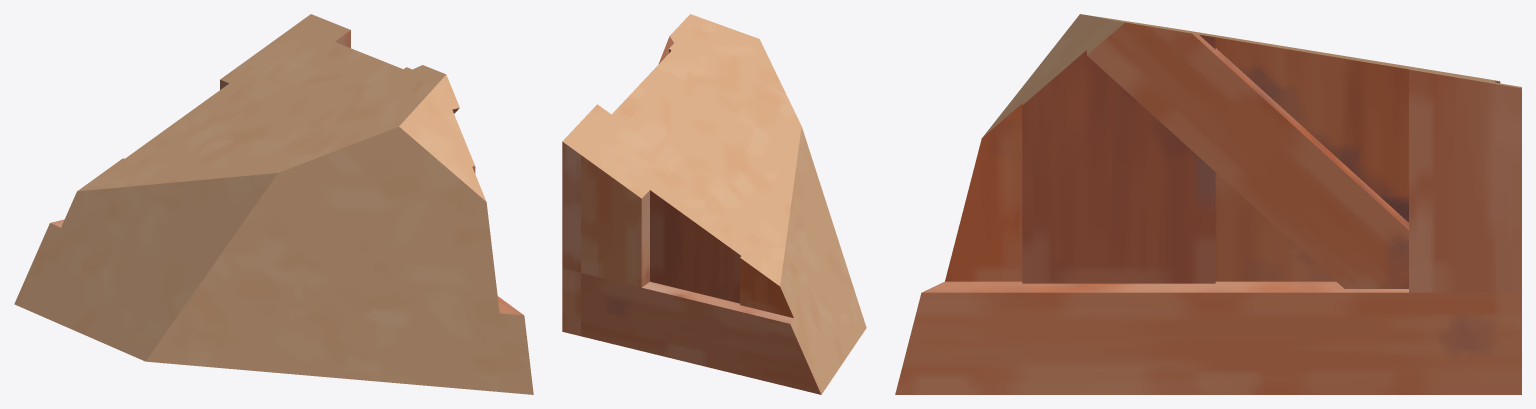
Rendered from crate_s00.fbx.
The picture shows the model from 3 angles, left to right: view 1: azimuth 30°, elevation 25°; view 2: azimuth 150°, elevation 25°; view 3: azimuth 270°, elevation 25°; orthographic projection. The views are drawn at different scales.
Visible parts, largest first — view 1: crate_s00; view 2: crate_s00; view 3: crate_s00.
Boxes of the visible parts, x1,y1,x2,y2 form: crate_s00: [14, 14, 533, 394]; crate_s00: [562, 14, 866, 394]; crate_s00: [895, 14, 1521, 394].
Size of the model in its own units: 1.79 by 1.51 by 2.33.
